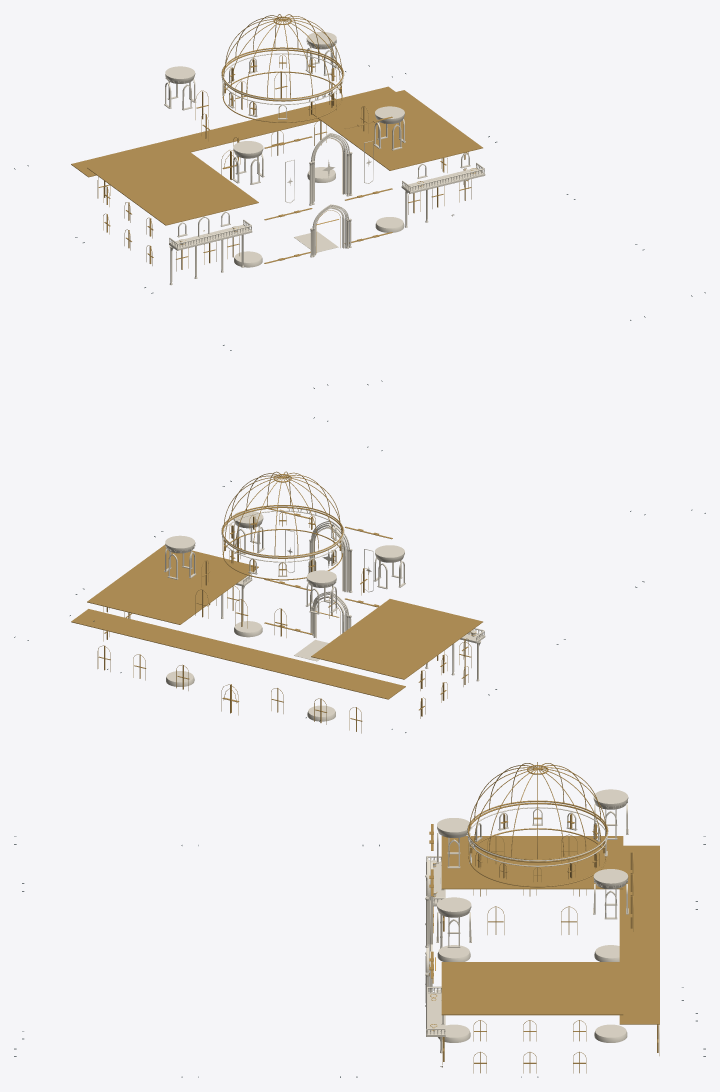
File: castle-07.glb
The picture shows the model from 3 angles, top to bottom: view 1: azimuth 30°, elevation 25°; view 2: azimuth 150°, elevation 25°; view 3: azimuth 270°, elevation 25°; orthographic projection. The views are drawn at different scales.
Parts seen in each view (by area): view 1: NC.Export.Palace.RoyalGold.00, NC.Export.Palace.IvoryStone.02, NC.Export.Palace.IvoryStone.03, NC.Export.Palace.IvoryStone.05; view 2: NC.Export.Palace.RoyalGold.00, NC.Export.Palace.IvoryStone.02, NC.Export.Palace.IvoryStone.03, NC.Export.Palace.IvoryStone.05; view 3: NC.Export.Palace.RoyalGold.00, NC.Export.Palace.IvoryStone.02, NC.Export.Palace.IvoryStone.03, NC.Export.Palace.IvoryStone.05.
Part boxes in pixels (box(x1,y1,x2,y2)): NC.Export.Palace.RoyalGold.00: box(71, 14, 482, 271); NC.Export.Palace.IvoryStone.02: box(164, 32, 405, 267); NC.Export.Palace.IvoryStone.03: box(177, 44, 470, 257); NC.Export.Palace.IvoryStone.05: box(165, 41, 485, 285); NC.Export.Palace.RoyalGold.00: box(71, 471, 482, 733); NC.Export.Palace.IvoryStone.02: box(165, 510, 405, 721); NC.Export.Palace.IvoryStone.03: box(164, 506, 470, 637); NC.Export.Palace.IvoryStone.05: box(165, 545, 485, 681); NC.Export.Palace.RoyalGold.00: box(429, 762, 659, 1073); NC.Export.Palace.IvoryStone.02: box(436, 789, 628, 1042); NC.Export.Palace.IvoryStone.03: box(425, 802, 628, 1024); NC.Export.Palace.IvoryStone.05: box(426, 800, 627, 1067).
Size of the model in its own units: 105 by 48.17 by 132.
